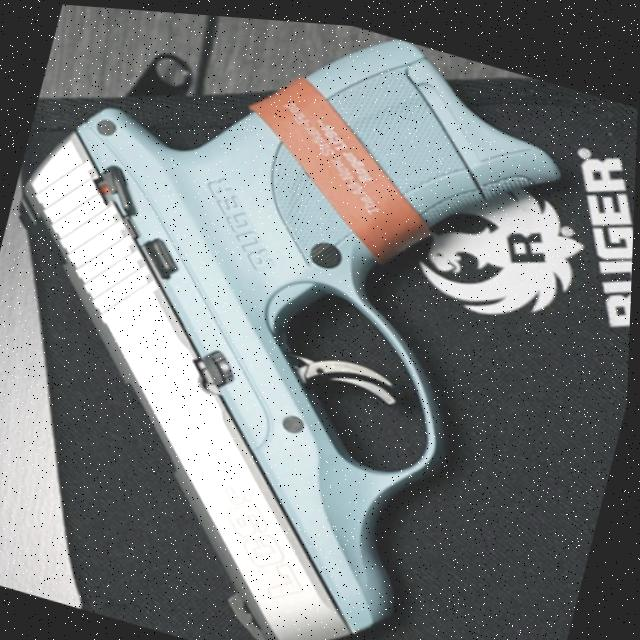pistol: (0, 0, 581, 640)
